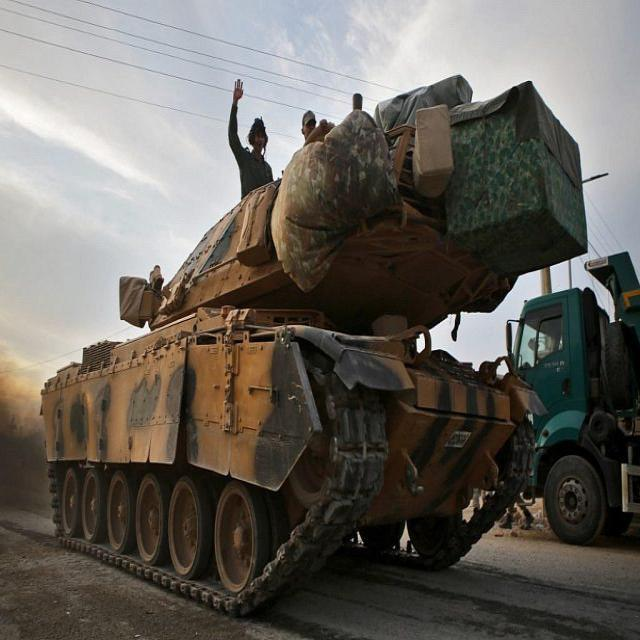Tanks: (49, 92, 537, 563)
